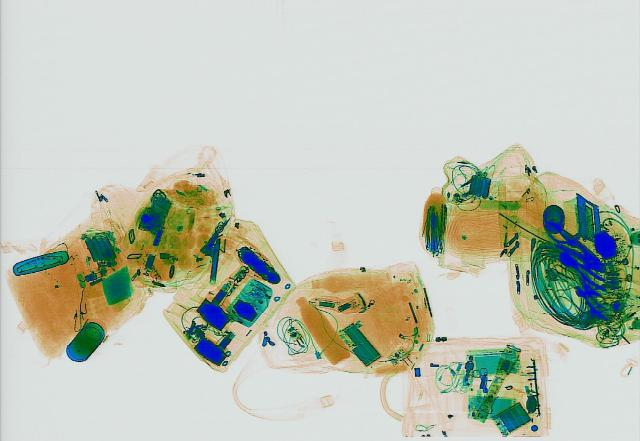Pliers: (549, 249, 615, 291), (536, 220, 590, 253)
